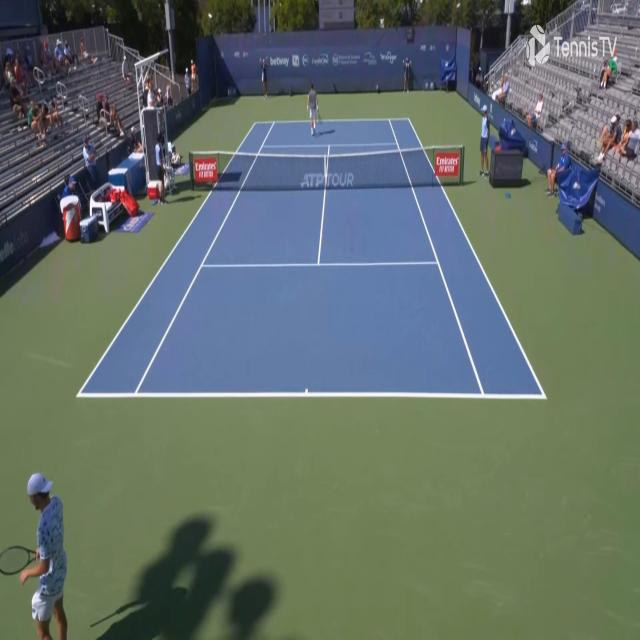tennis-player: (13, 466, 69, 639), (306, 82, 320, 137)
